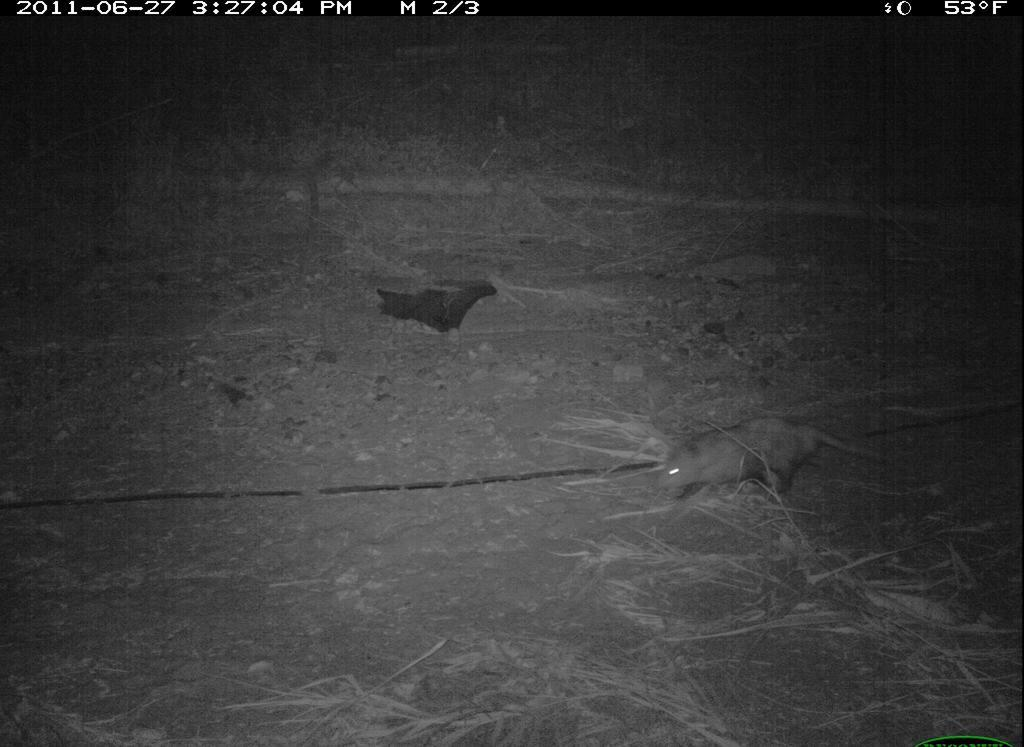opossum: (649, 410, 911, 509)
